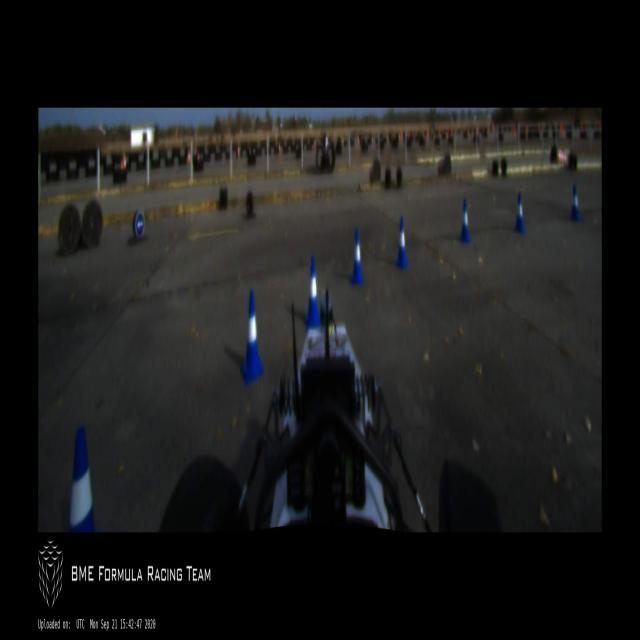blue_cone: (68, 428, 96, 532), (239, 286, 264, 385), (304, 259, 321, 324), (394, 215, 410, 271), (349, 227, 364, 285), (458, 196, 472, 244), (513, 192, 526, 232), (569, 186, 580, 220)
